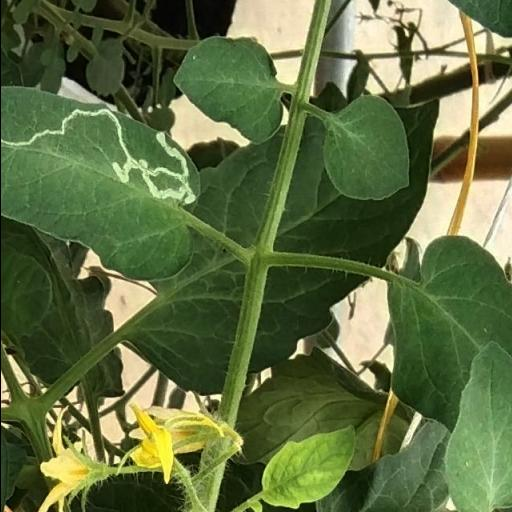Healthy: (172, 38, 284, 146), (320, 92, 414, 204)
Leaf Miner: (0, 82, 200, 280)
